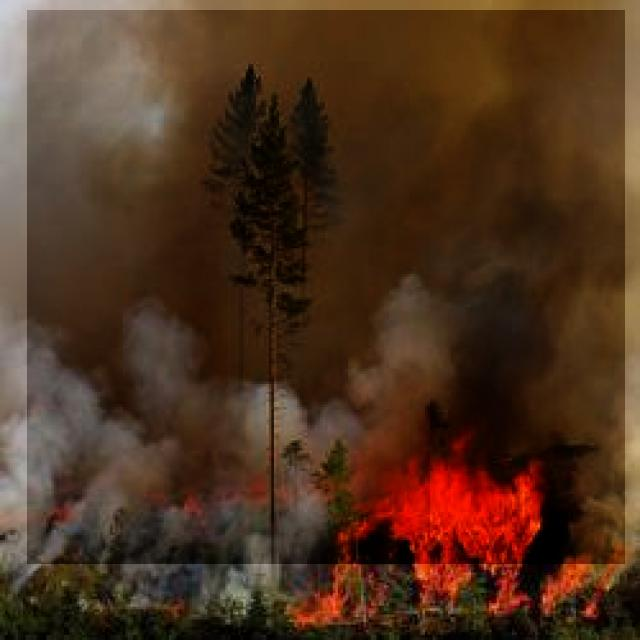Fire: (318, 448, 596, 614)
Smoke: (27, 10, 625, 564)
